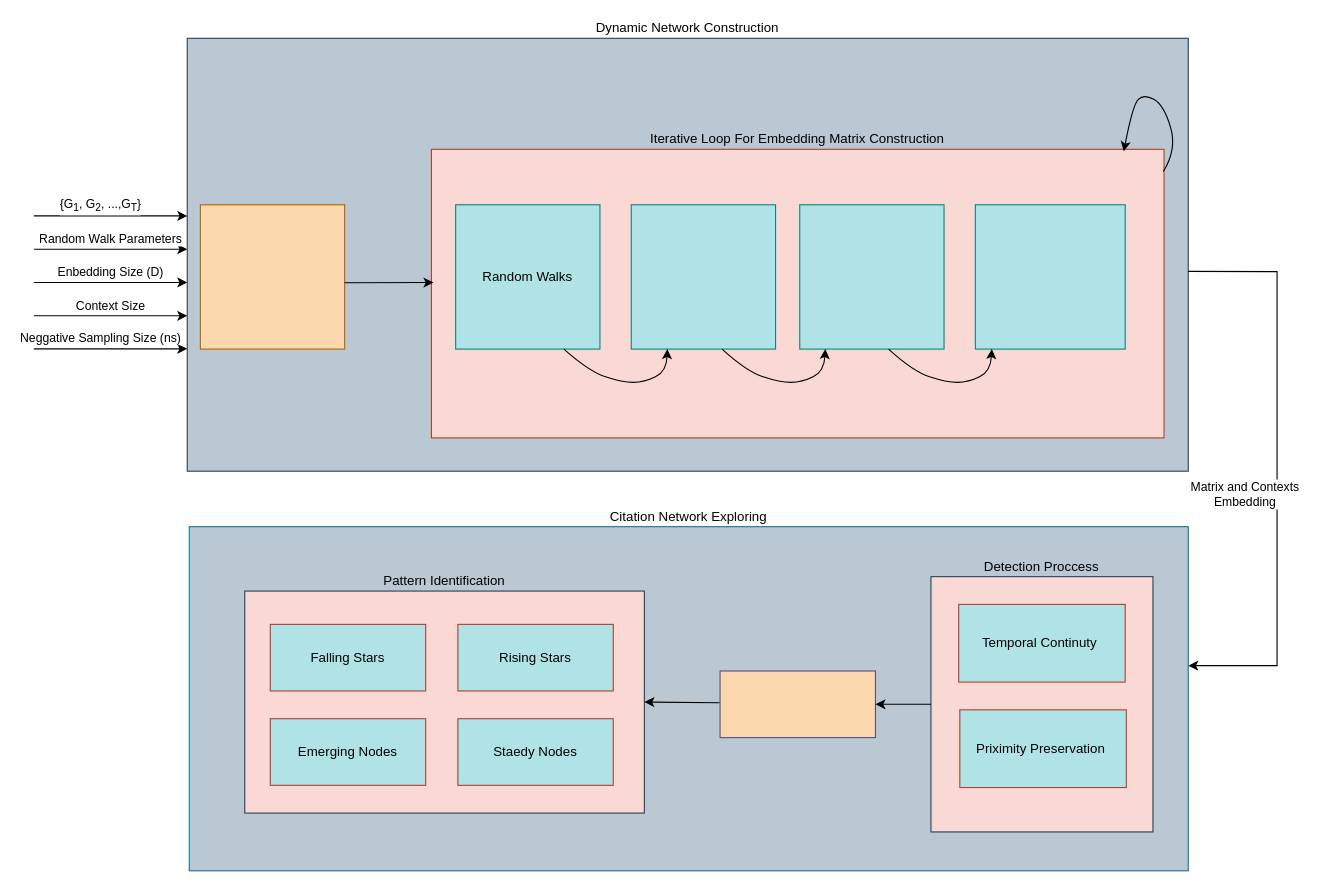
The diagram is 1318 pixels wide and 890 high, and some of its shapes have lost their labels. Here are the shapes that lost their labels. From the top down, the centre of each, then its label:
(x=272, y=276): Initial Construction
(x=703, y=276): Negative Sampling Calculation
(x=871, y=276): Loss Optimization
(x=1049, y=276): Embedding Matrix and Context Matrix Update
(x=797, y=704): Calculations & Clustering
